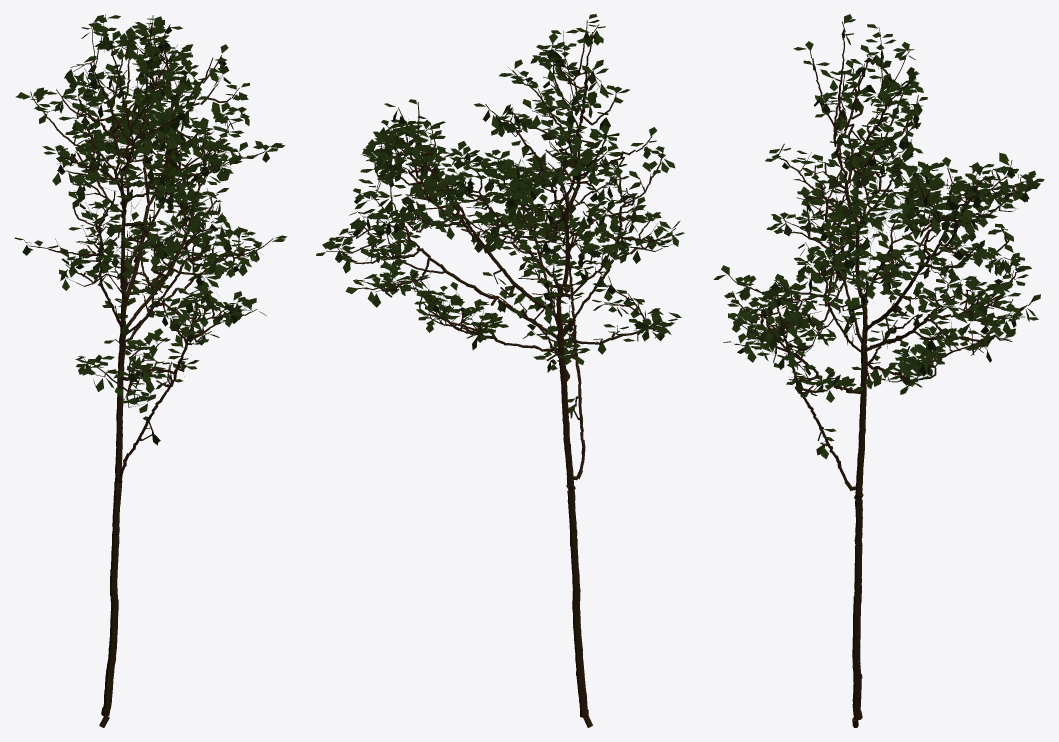
The model's file is tree_259.obj.
The picture shows the model from 3 angles, left to right: view 1: azimuth 30°, elevation 25°; view 2: azimuth 150°, elevation 25°; view 3: azimuth 270°, elevation 25°; orthographic projection.
Parts seen in each view (by area): view 1: Leaves, TrunkAndBranches; view 2: Leaves, TrunkAndBranches; view 3: Leaves, TrunkAndBranches.
Boxes of the visible parts, x1=… form: Leaves: x1=14, y1=15, x2=286, y2=445; TrunkAndBranches: x1=24, y1=14, x2=273, y2=727; Leaves: x1=316, y1=14, x2=684, y2=418; TrunkAndBranches: x1=326, y1=20, x2=675, y2=727; Leaves: x1=713, y1=14, x2=1044, y2=459; TrunkAndBranches: x1=726, y1=21, x2=1034, y2=727.
Size of the model in its own units: 6.31 by 14.67 by 6.22.
